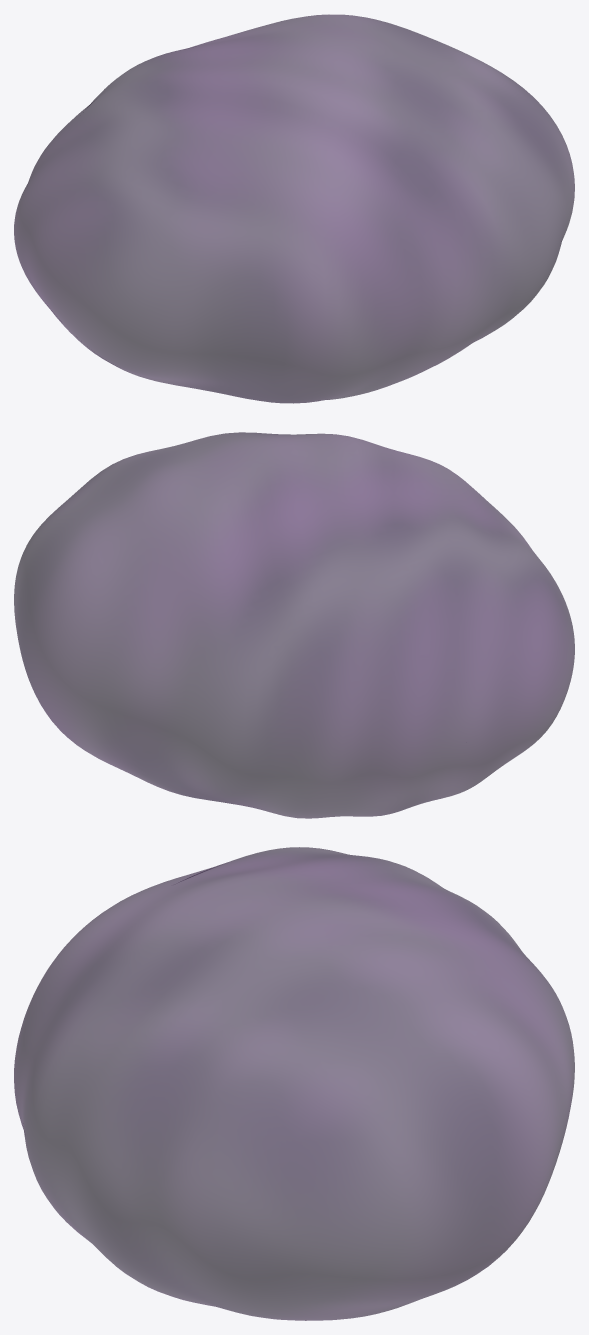
File: specimen.glb
3 views of the same model, one above another, from view 1: azimuth 30°, elevation 25°; view 2: azimuth 150°, elevation 25°; view 3: azimuth 270°, elevation 25° (orthographic). The views are drawn at different scales.
Parts seen in each view (by area): view 1: tumbled-solid; view 2: tumbled-solid; view 3: tumbled-solid.
Part boxes in pixels (<box>): tumbled-solid: <box>14,14,574,403</box>; tumbled-solid: <box>14,432,574,818</box>; tumbled-solid: <box>14,847,574,1320</box>.
Size of the model in its own units: 0.0354 by 0.0219 by 0.029.
